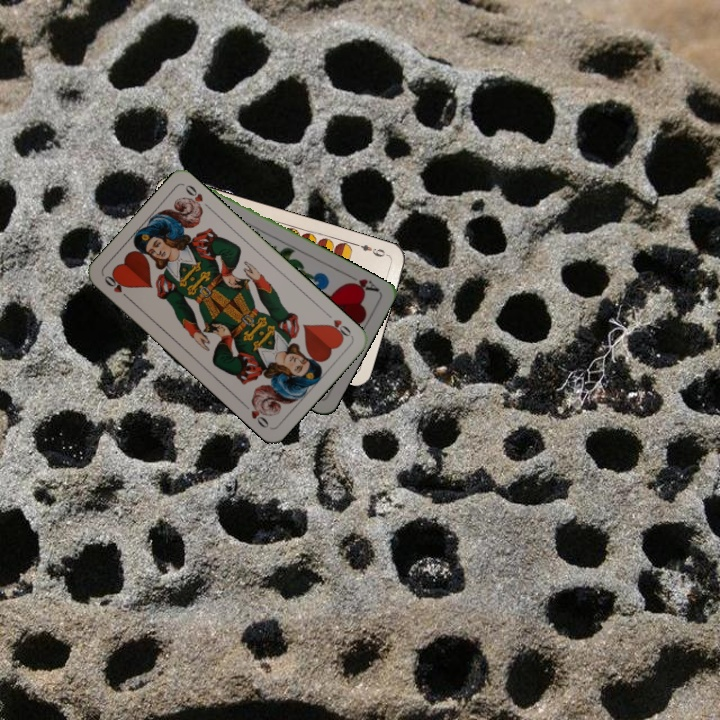E9: (351, 239, 391, 260)
HA: (342, 270, 381, 295)
HO: (321, 308, 354, 342), (100, 270, 133, 303)
